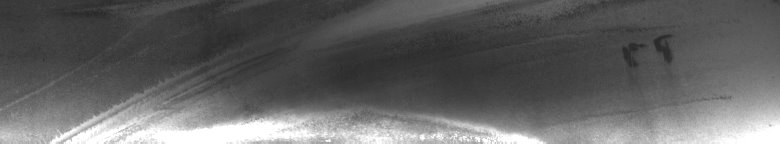ke: (5, 4, 732, 136)
